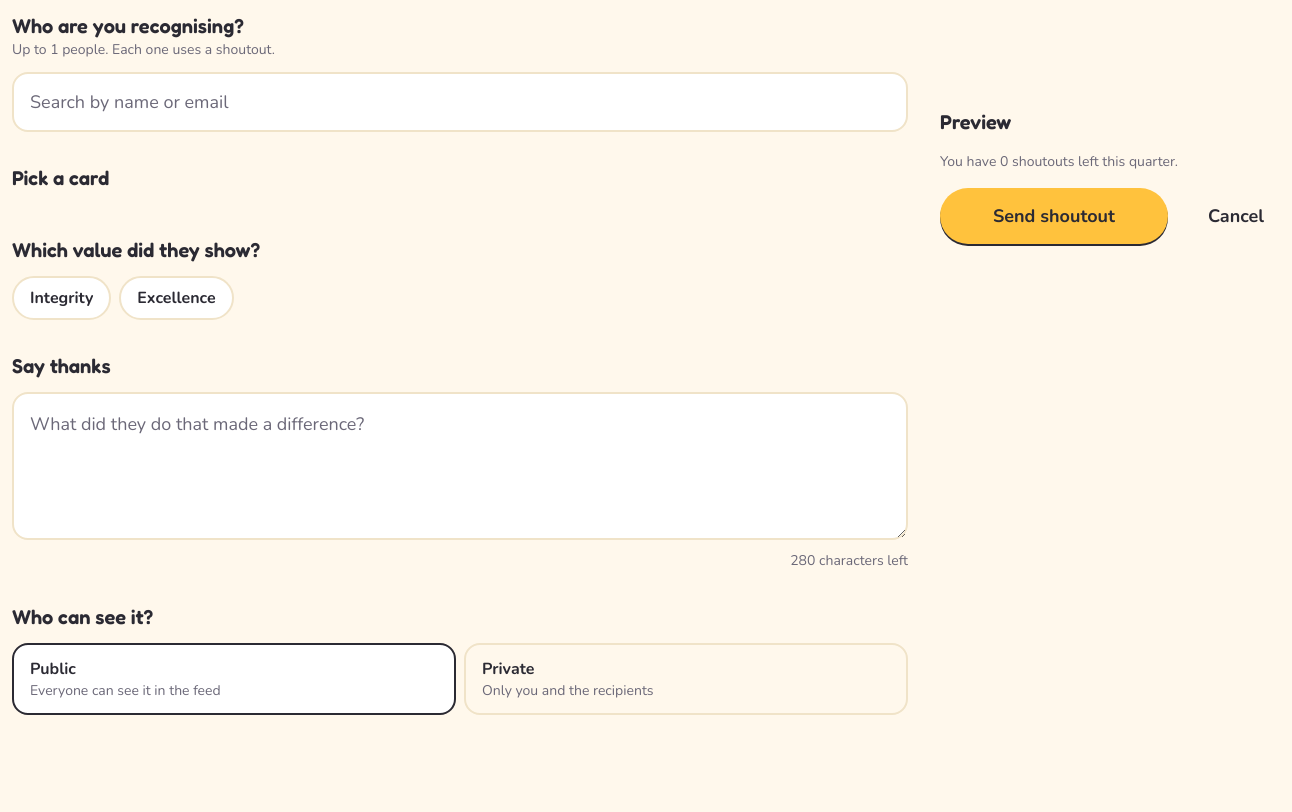
Test case: SendShoutoutForm › copes with no cards and disables sending over budget
The width and height of the screenshot is (1292, 812).
Click the dropdown: (460, 102) [22,82,898,122]
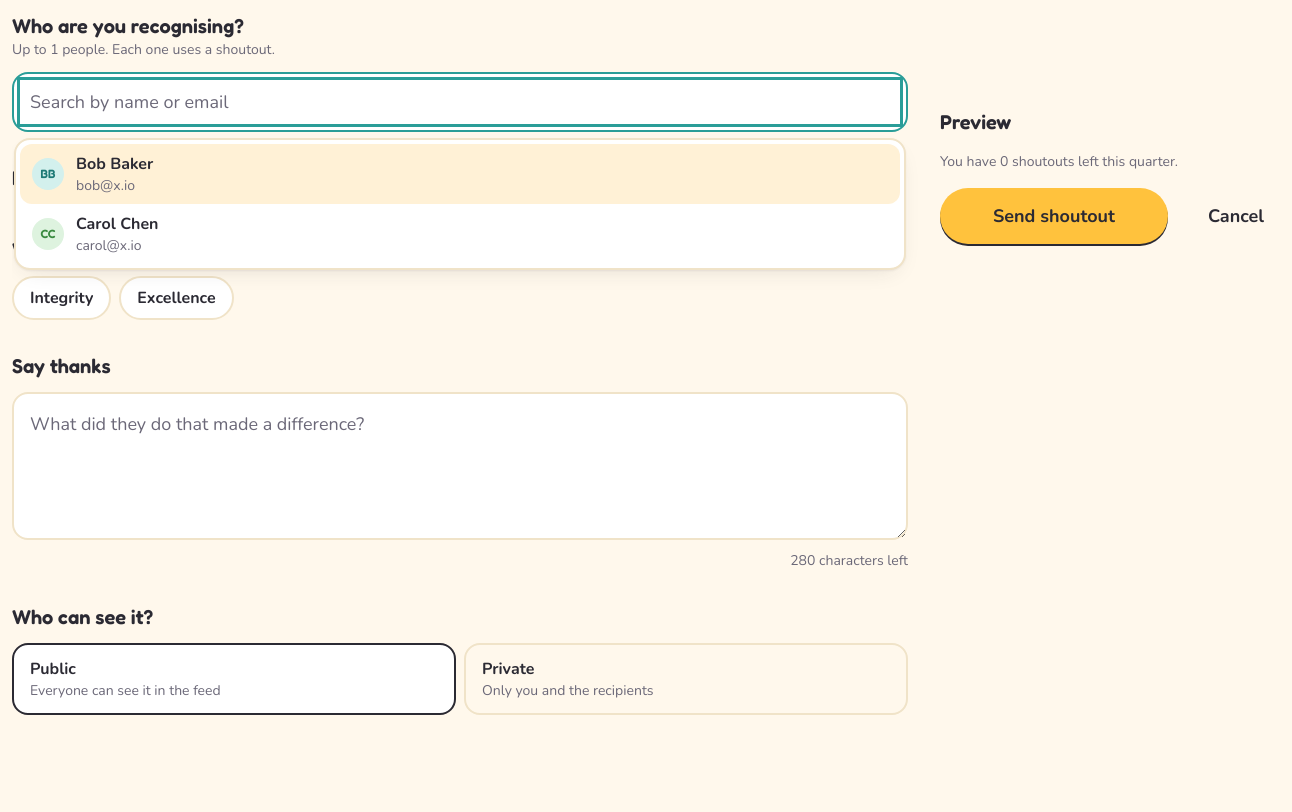
Press the mouse on the option "Bob Baker": (48, 174) [20,144,900,204]
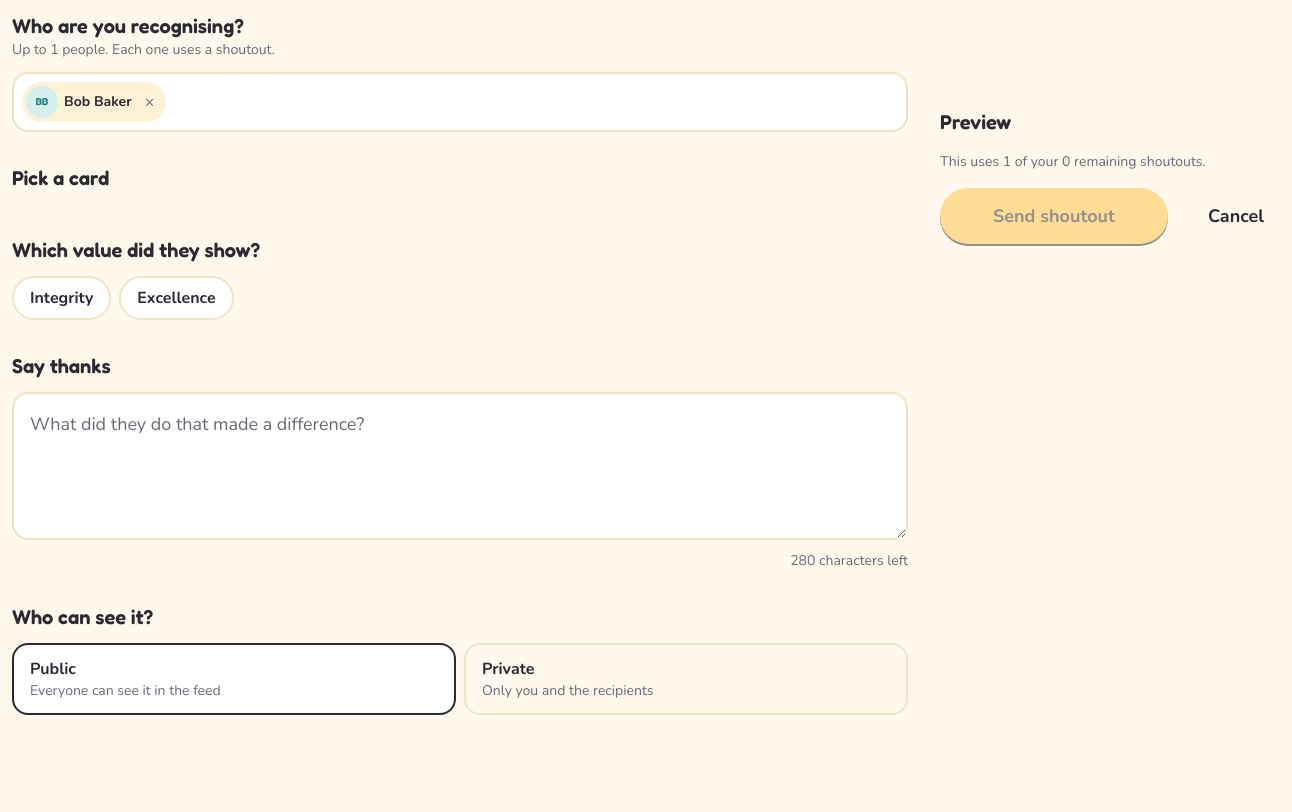
Expected: the button "Send shoutout" is disabled, [940,188,1168,244]
